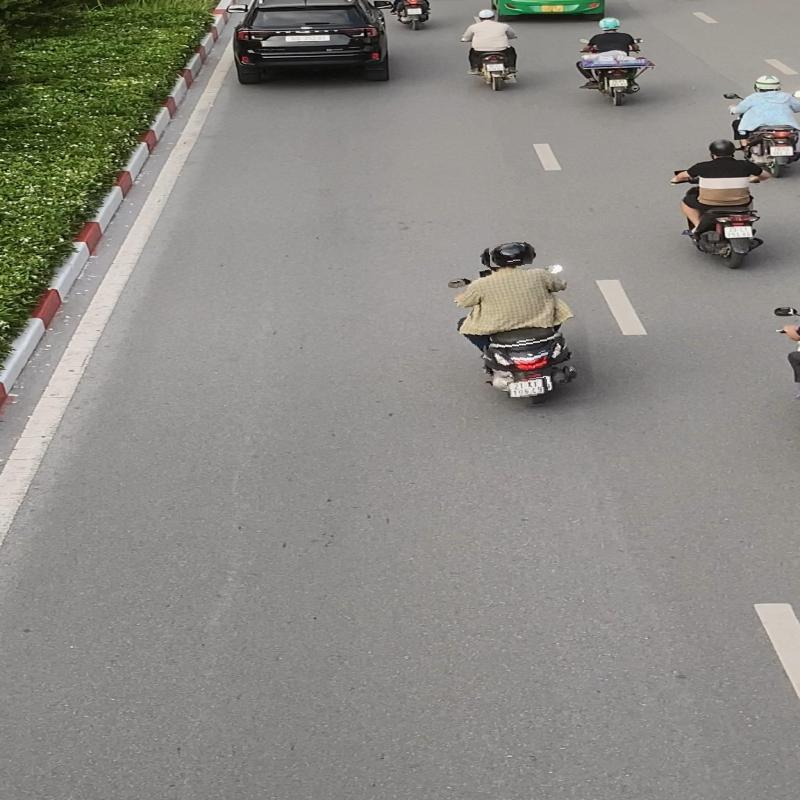helmet: (489, 241, 536, 267)
licenseplate: (508, 378, 548, 397)
motorcyclist: (444, 234, 591, 412)
